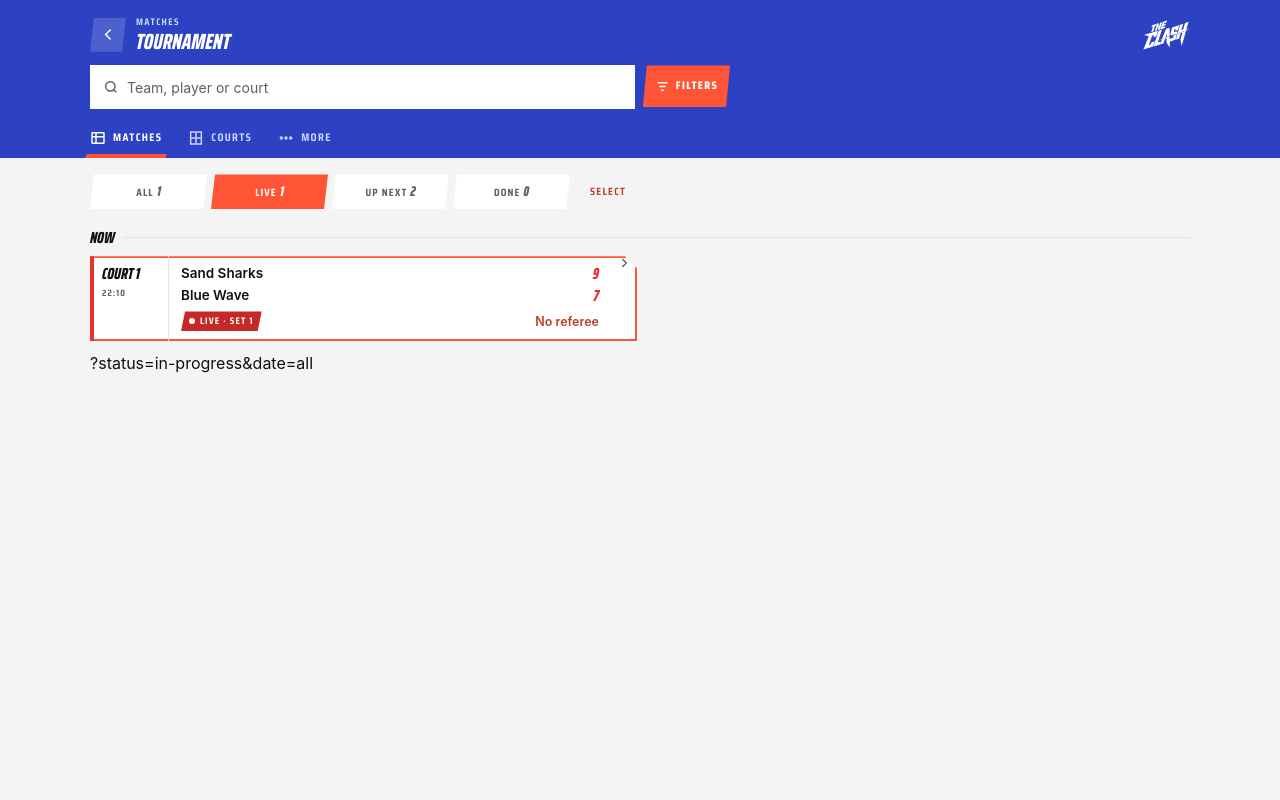
Test: an action opened from the match sheet takes its place; closing it gives the page back its scroll and focus
This screenshot has width=1280, height=800.
Click the button "Sand Sharks".
click(364, 299)  # box [90,256,637,341]
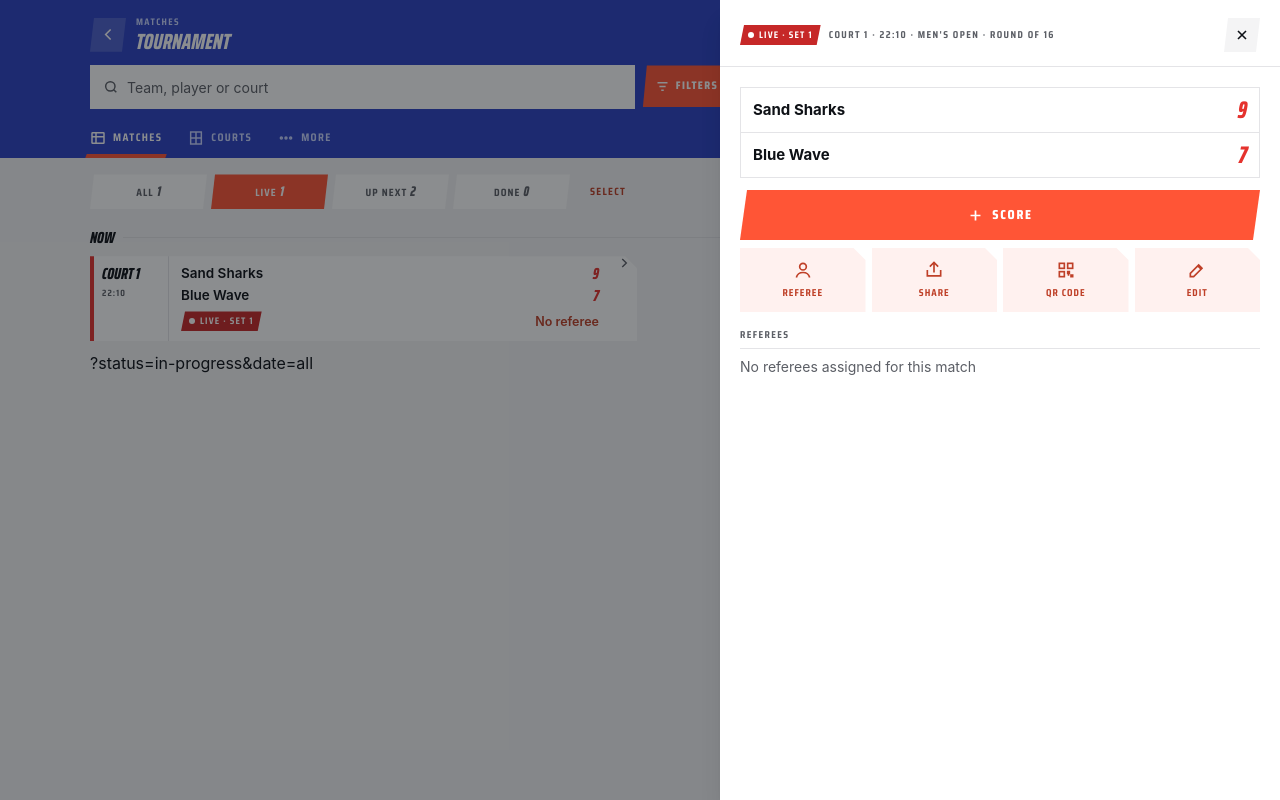
Click the button "Referee".
click(803, 280)  # box [740,248,866,312]
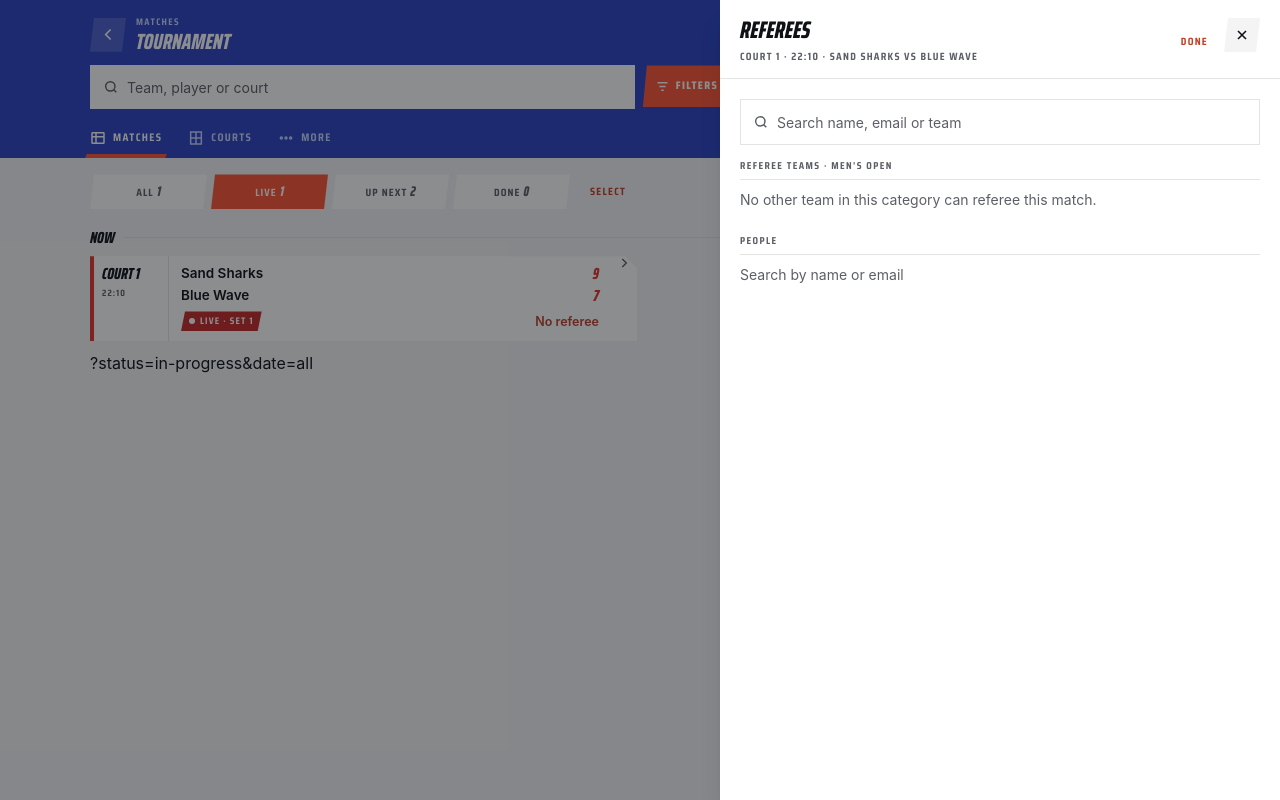
Expected: the number of dialogs is 1, [720,0,1279,799]
Click the button named "Close".
click(1242, 35)  # box [1220,13,1264,57]
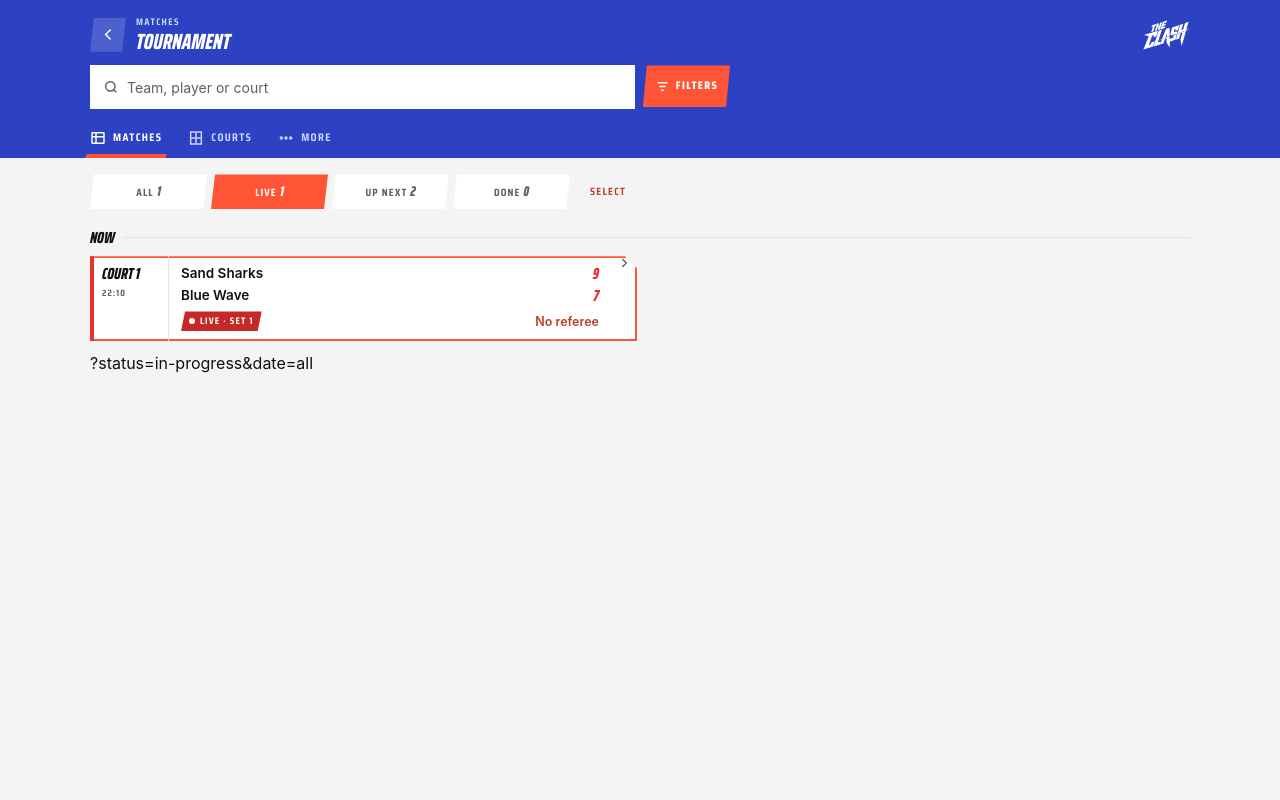
Expected: the dialog is gone
